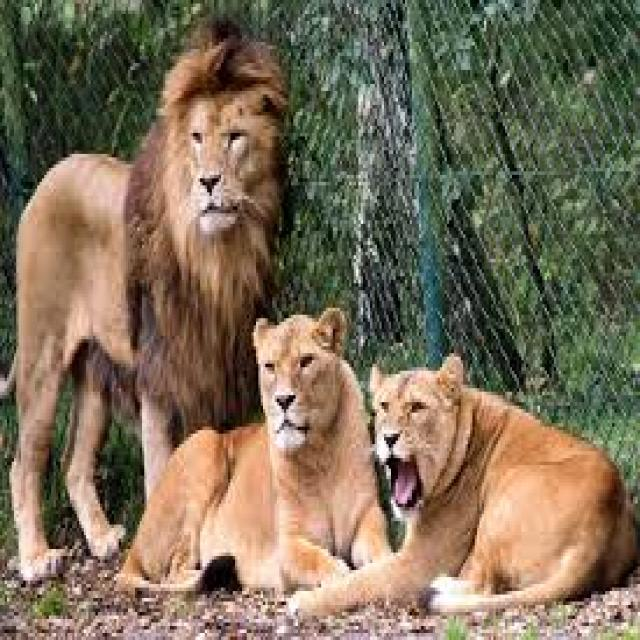Lion: (12, 34, 288, 579), (294, 354, 638, 625), (117, 315, 387, 595)
